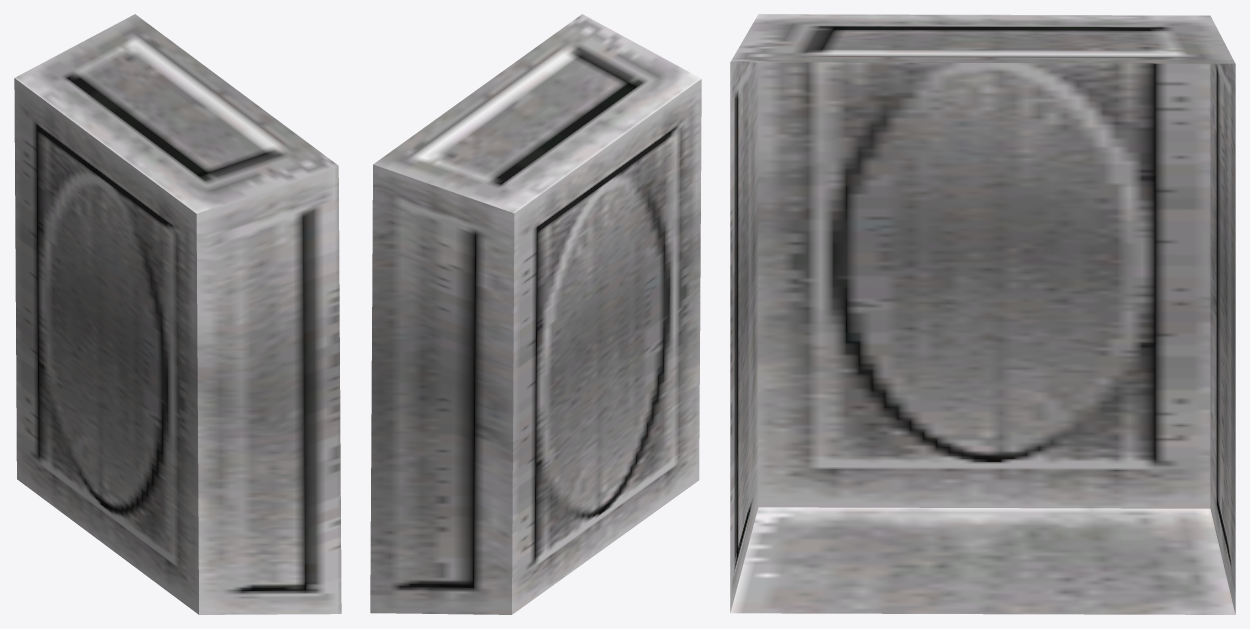
Rendered from earring_s13_m_l1.fbx.
The picture shows the model from 3 angles, left to right: view 1: azimuth 30°, elevation 25°; view 2: azimuth 150°, elevation 25°; view 3: azimuth 270°, elevation 25°; orthographic projection. The views are drawn at different scales.
Parts seen in each view (by area): view 1: mesh_node; view 2: mesh_node; view 3: mesh_node.
Part boxes in pixels (x1,y1,x2,y2): mesh_node: (14,14,341,614); mesh_node: (370,14,701,614); mesh_node: (730,14,1235,614).
Size of the model in its own units: 0.00872 by 0.0275 by 0.0229.
